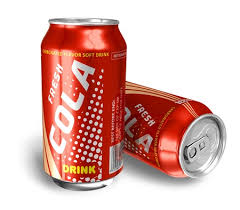can: (32, 13, 128, 197), (130, 76, 228, 187)
